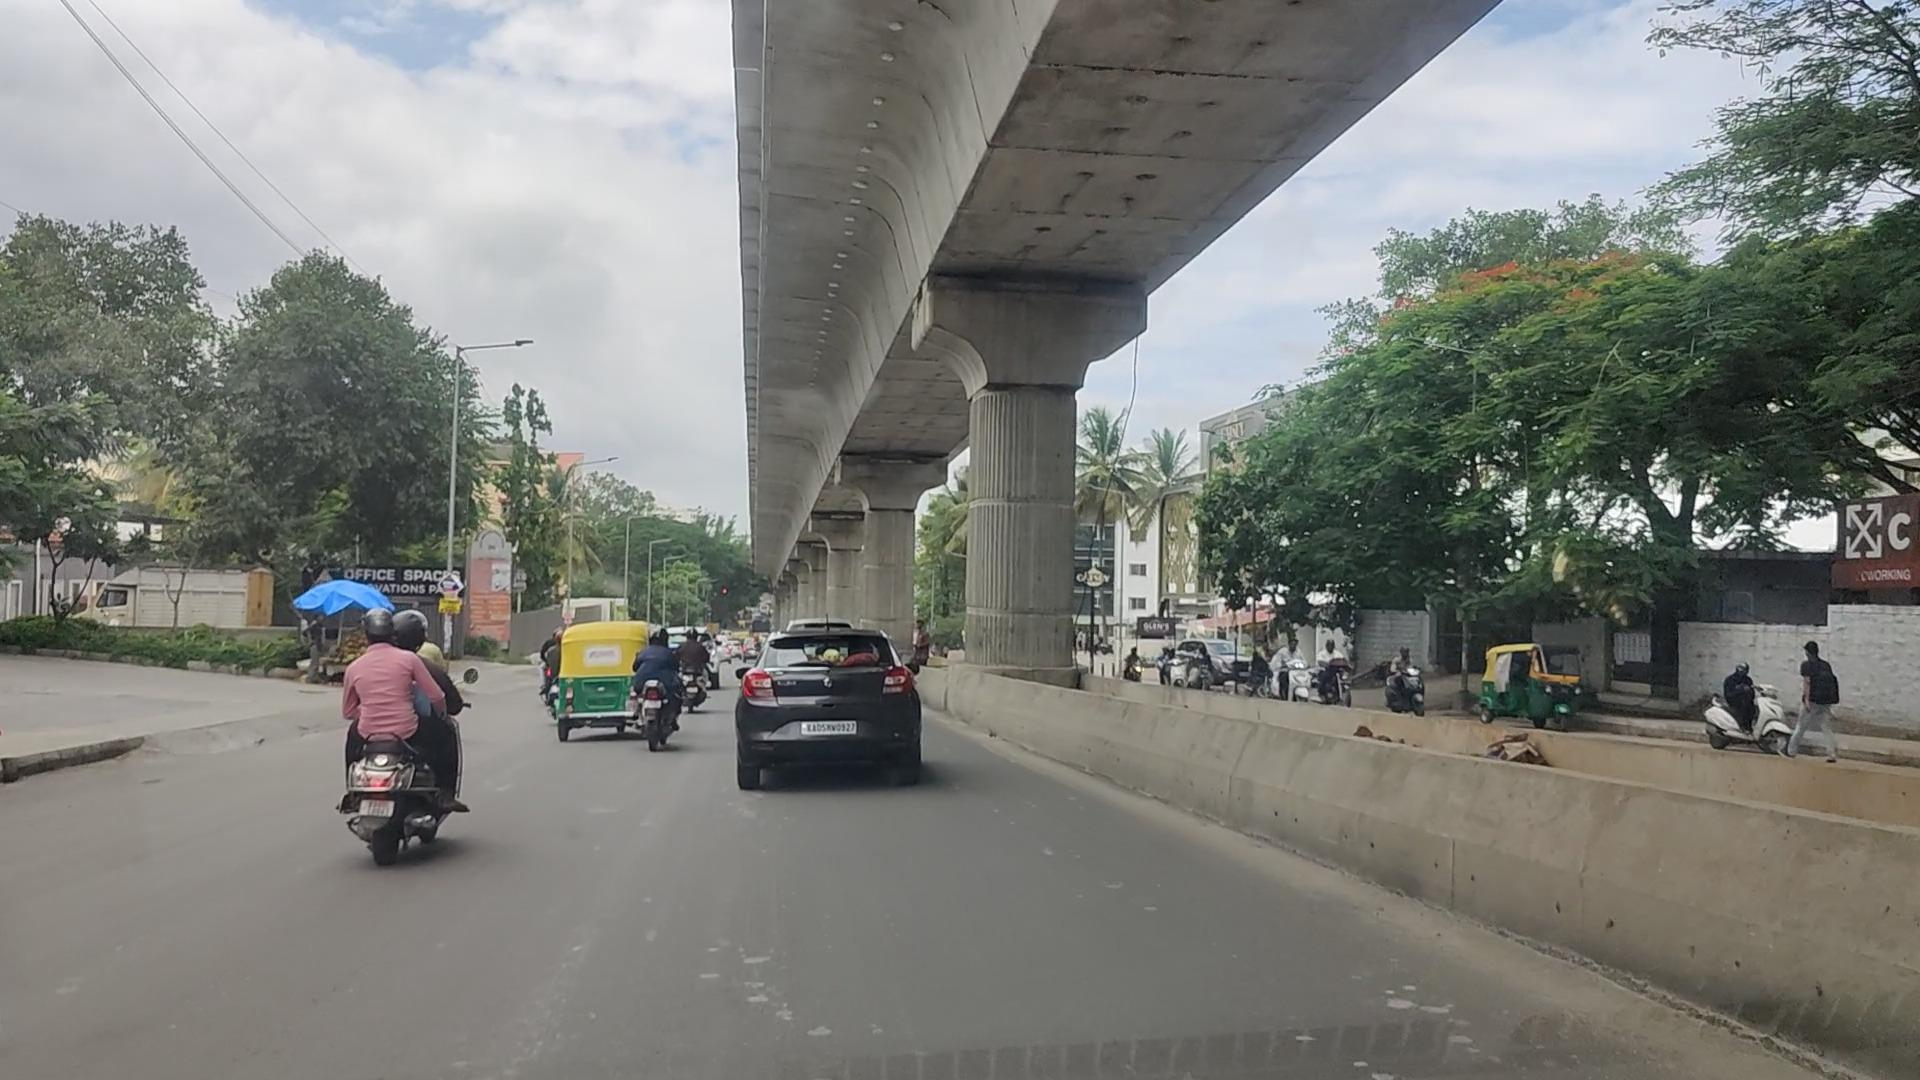LMV: (736, 621, 920, 798), (342, 605, 459, 872), (560, 621, 644, 737), (633, 625, 675, 748)
